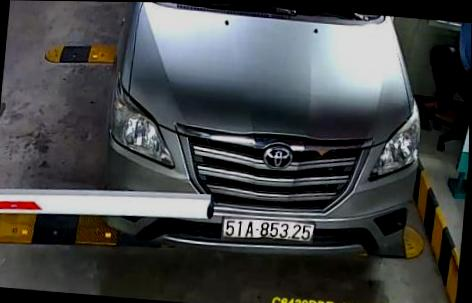License_Plate: (222, 210, 318, 248)
